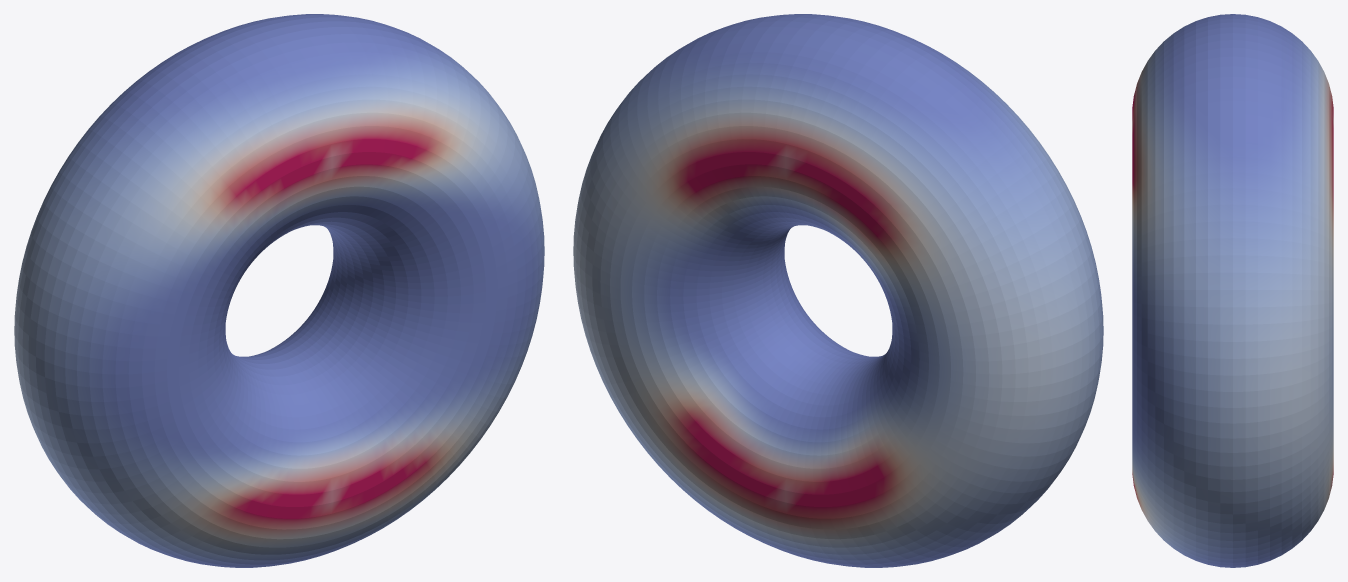
The picture shows the model from 3 angles, left to right: view 1: azimuth 30°, elevation 25°; view 2: azimuth 150°, elevation 25°; view 3: azimuth 270°, elevation 25°; orthographic projection. The views are drawn at different scales.
Parts seen in each view (by area): view 1: world; view 2: world; view 3: world.
Boxes of the visible parts, left/top/right/bottom form: world: left=14, top=14, right=544, bottom=567; world: left=573, top=14, right=1103, bottom=567; world: left=1132, top=14, right=1333, bottom=567.
Bounding box in the file's own units: 15.73 × 15.73 × 5.72.
